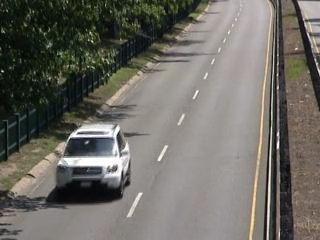car: (48, 121, 135, 201)
